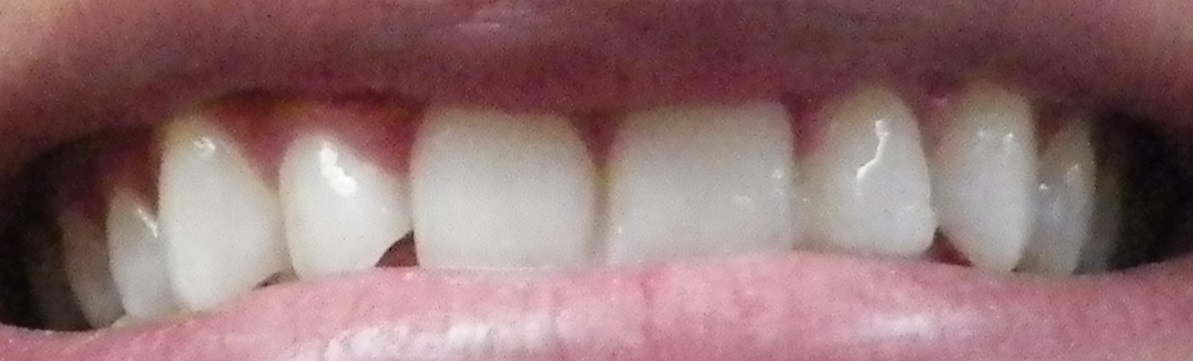boca: (71, 91, 1139, 326)
